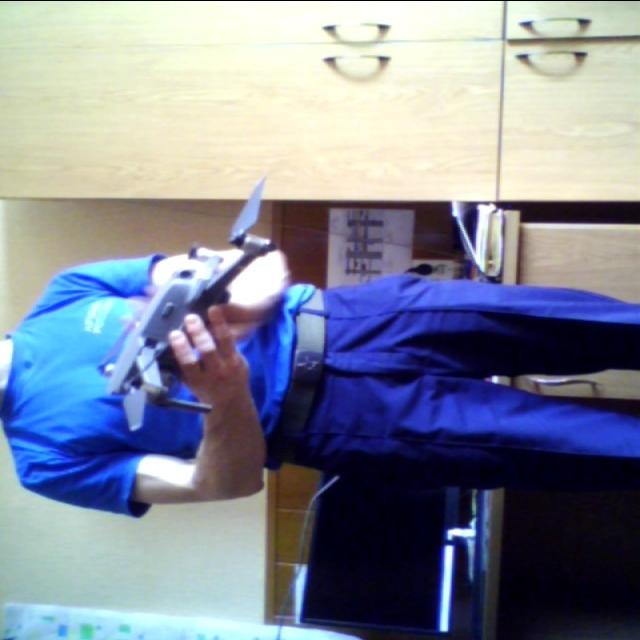drone: (90, 169, 274, 437)
